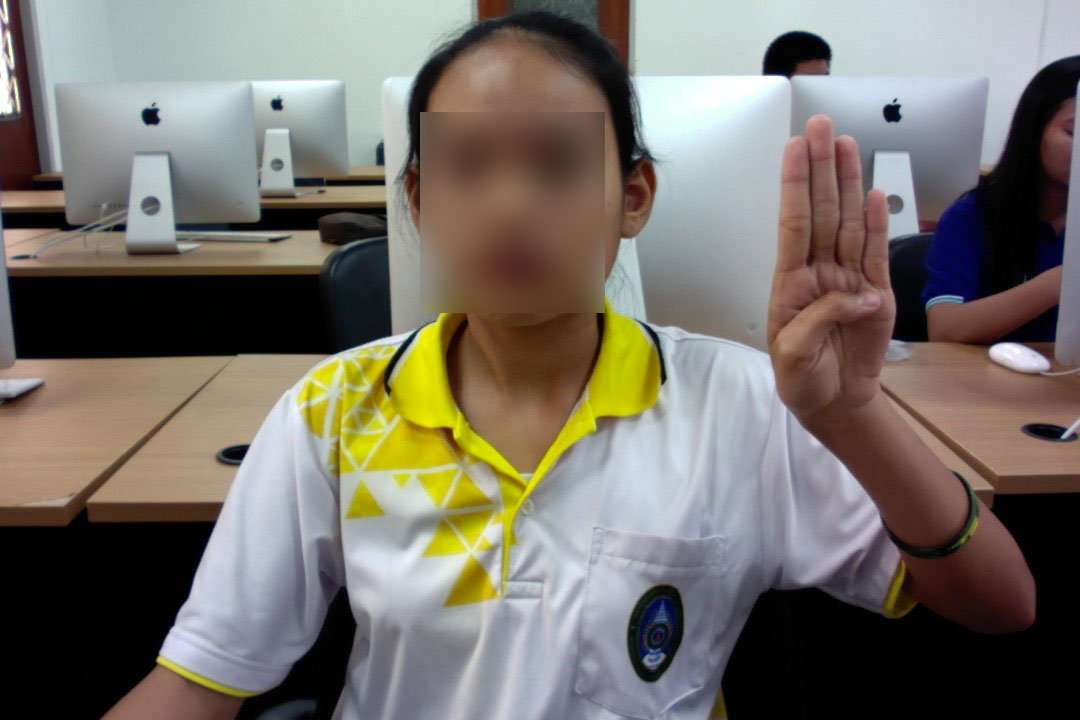bor: (749, 109, 914, 428)
